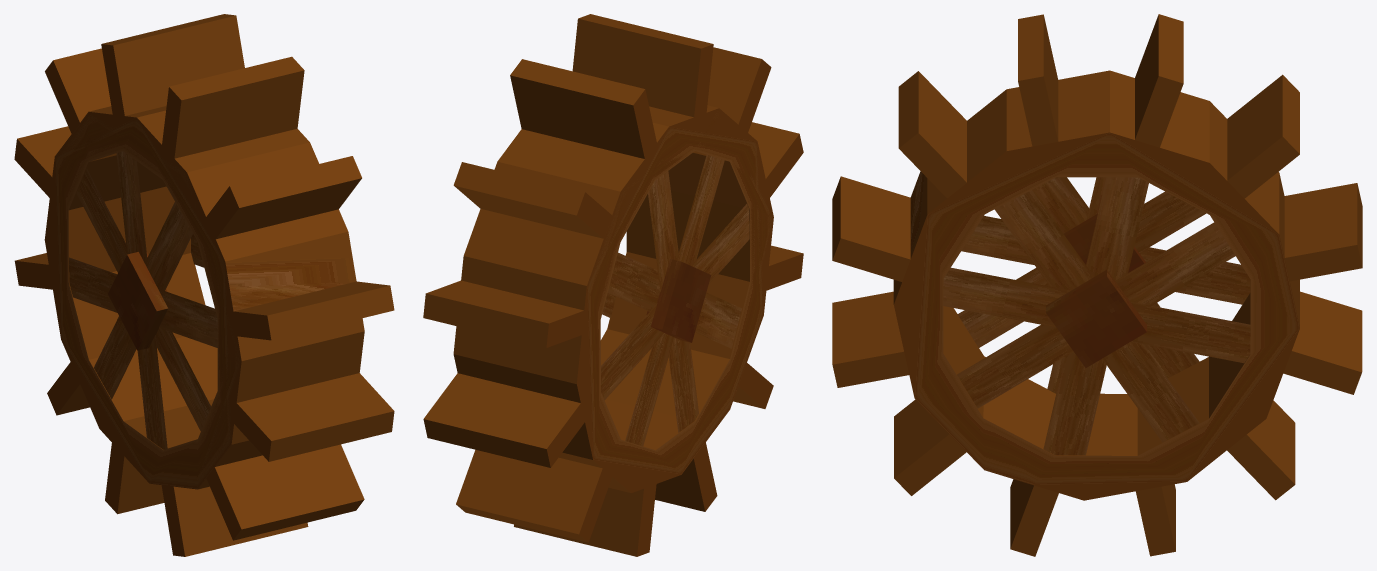
Rendered from Waterwheel.glb.
3 views of the same model, side by side, from view 1: azimuth 30°, elevation 25°; view 2: azimuth 150°, elevation 25°; view 3: azimuth 270°, elevation 25° (orthographic). The views are drawn at different scales.
Visible parts, largest first — view 1: Cube; view 2: Cube; view 3: Cube.
Part boxes in pixels (<box>): Cube: <box>14,14,394,556</box>; Cube: <box>423,14,803,556</box>; Cube: <box>832,14,1362,556</box>.
Size of the model in its own units: 1.2 by 3.62 by 3.62.
3 materials, 3 textured.
